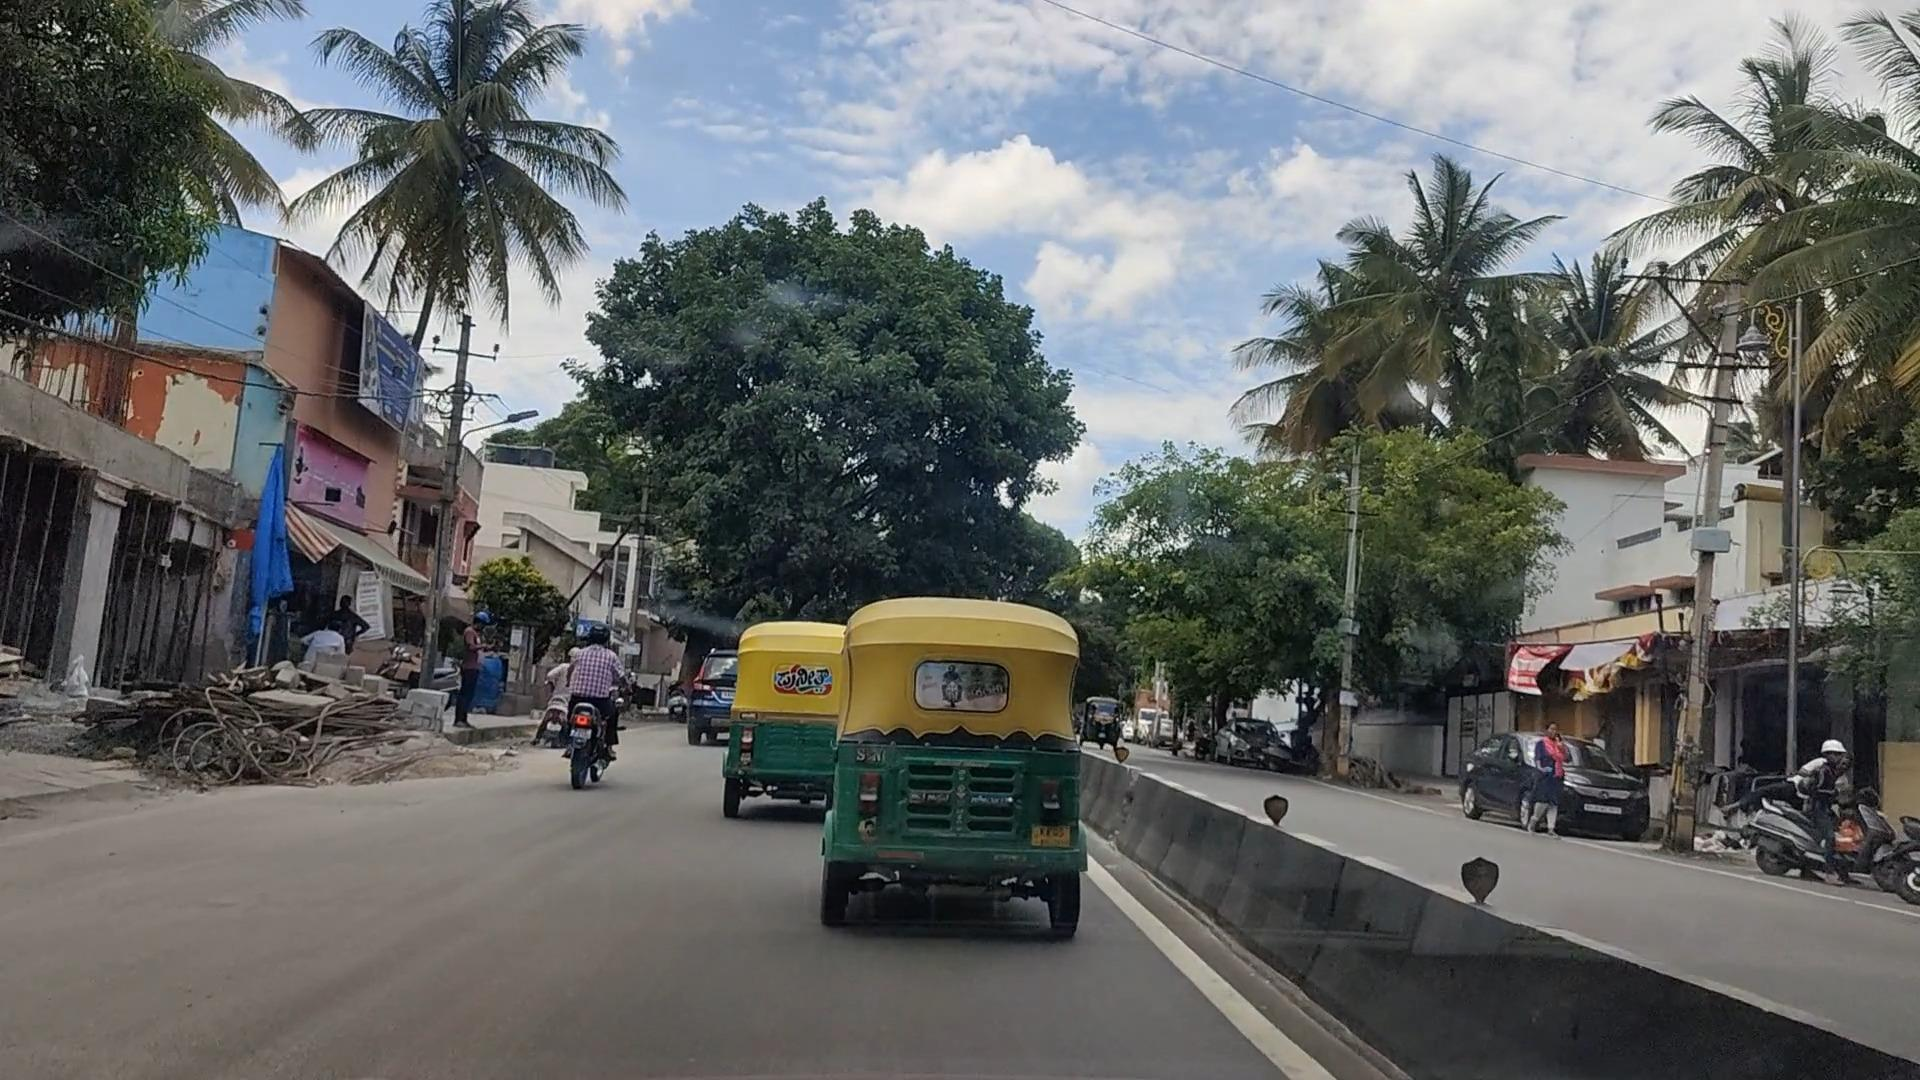LMV: (853, 596, 1093, 943), (546, 617, 663, 802), (733, 636, 848, 808)
